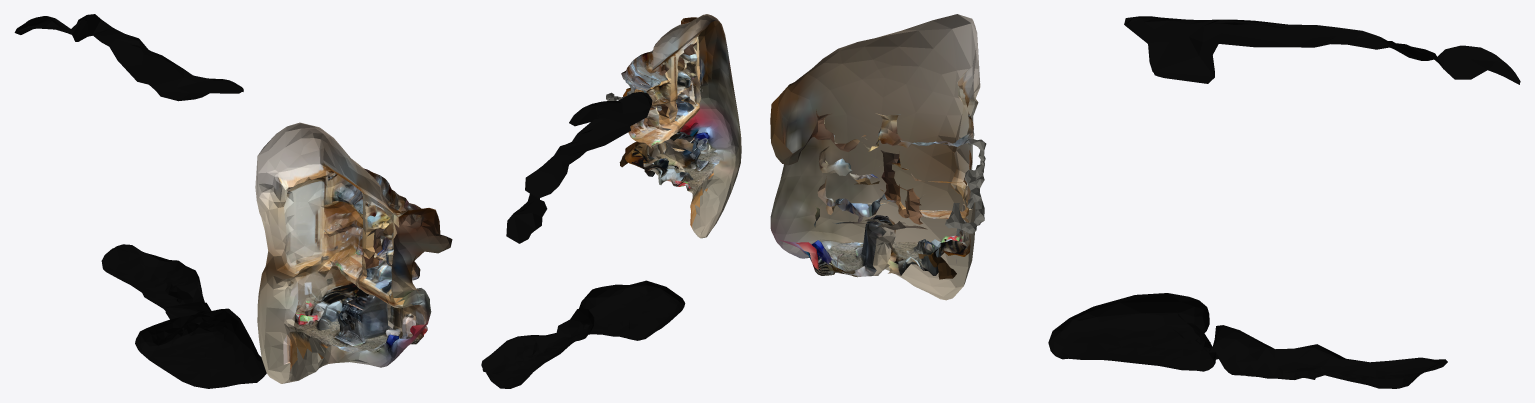
The model's file is cabinet_19.glb.
3 views of the same model, side by side, from view 1: azimuth 30°, elevation 25°; view 2: azimuth 150°, elevation 25°; view 3: azimuth 270°, elevation 25° (orthographic). The views are drawn at different scales.
Size of the model in its own units: 1.54 by 2.9 by 5.67.
1 material, 1 textured.
